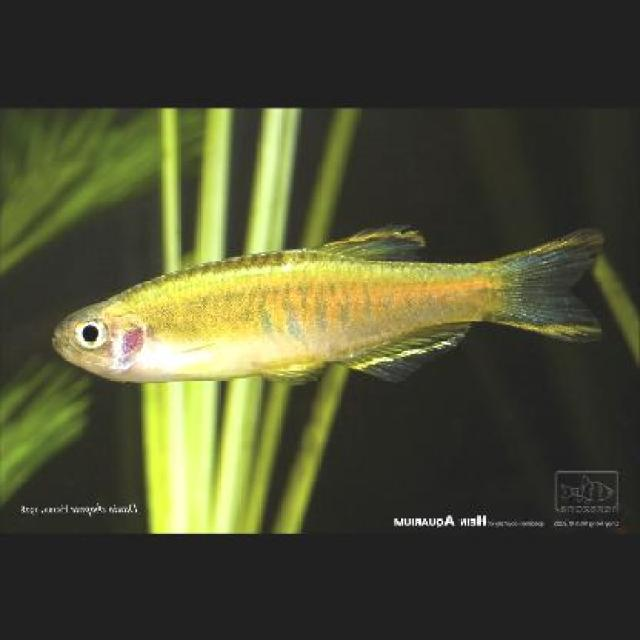ZebraFish: (52, 218, 603, 382)
